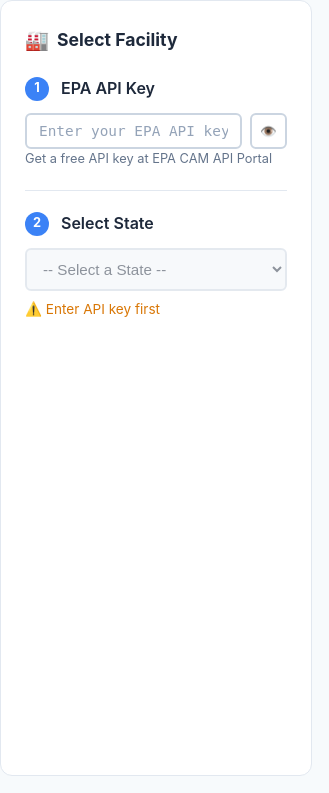
FacilitySelector › Initial Render › enables state select when API key is entered
Step 1. Type "test-api-key" into the password field with placeholder "Enter your EPA API key" → x=134, y=131, box x1=25 y1=113 x2=242 y2=149
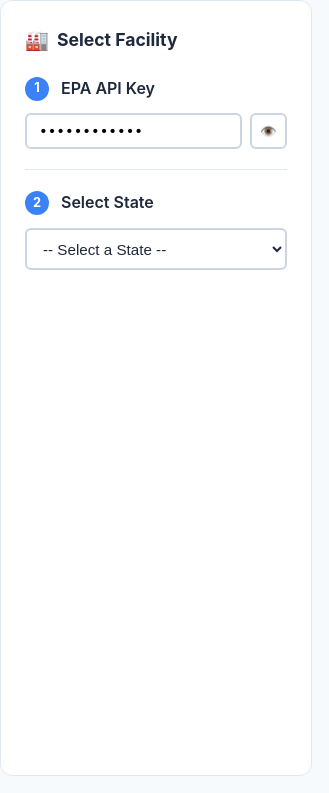
Result: the dropdown titled "Select a US state" is enabled at x1=25 y1=228 x2=287 y2=270
